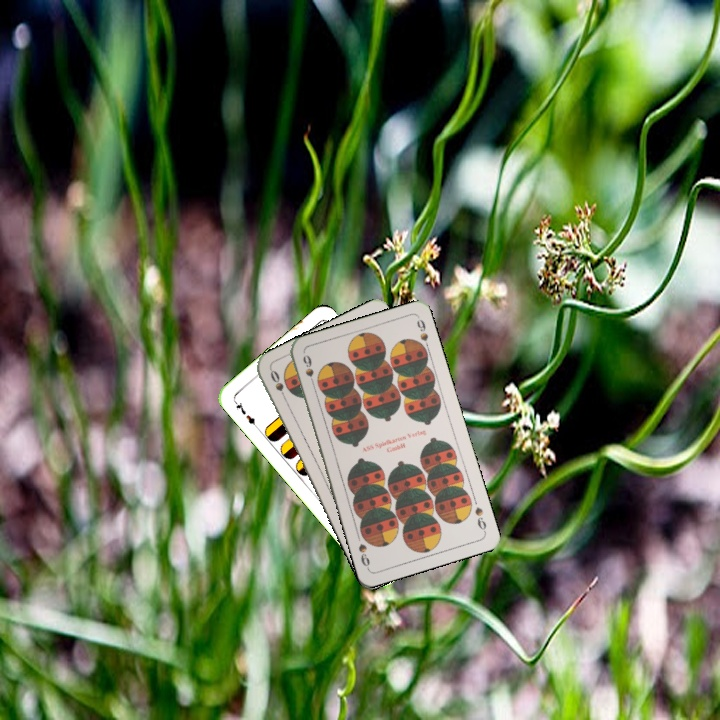E7: (230, 396, 260, 430)
S9: (299, 350, 318, 390), (471, 503, 489, 535)
SO: (266, 366, 290, 404)
